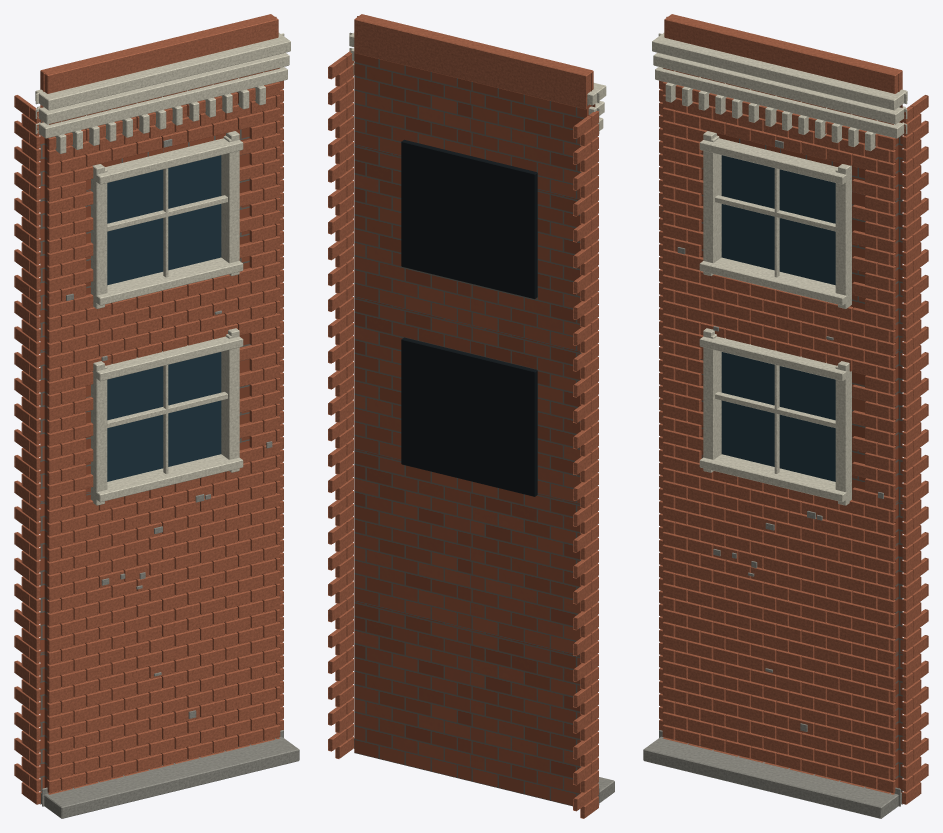
File: VICT23_lod0.glb
3 renders of one model, left to right at view 1: azimuth 30°, elevation 25°; view 2: azimuth 150°, elevation 25°; view 3: azimuth 330°, elevation 25°, orthographic.
Parts seen in each view (by area): view 1: VICT23_FRONT_LOD0; view 2: VICT23_FRONT_LOD0; view 3: VICT23_FRONT_LOD0.
Part boxes in pixels (box(x1,y1,x2,y2)): VICT23_FRONT_LOD0: box(14, 14, 299, 818); VICT23_FRONT_LOD0: box(328, 14, 614, 818); VICT23_FRONT_LOD0: box(643, 14, 928, 818).
Bounding box in the file's own units: 3.44 × 9.66 × 1.02.
9 materials, 7 textured.
